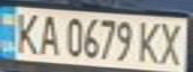0: (60, 14, 84, 58)
6: (81, 15, 103, 60)
7: (97, 16, 118, 61)
9: (115, 17, 136, 63)
A: (33, 11, 63, 56)
K: (9, 8, 42, 55), (133, 18, 163, 64)
X: (154, 19, 190, 66)
